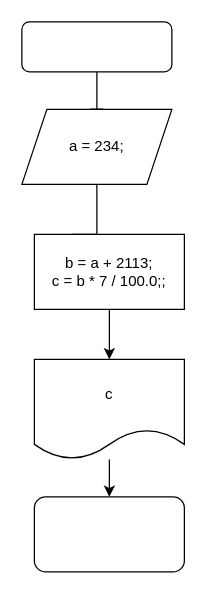
This 206x594 diagram has some shape labels left out. Each missing label, with the box of its shape:
end: (33, 496, 184, 572)
start: (21, 21, 172, 72)
